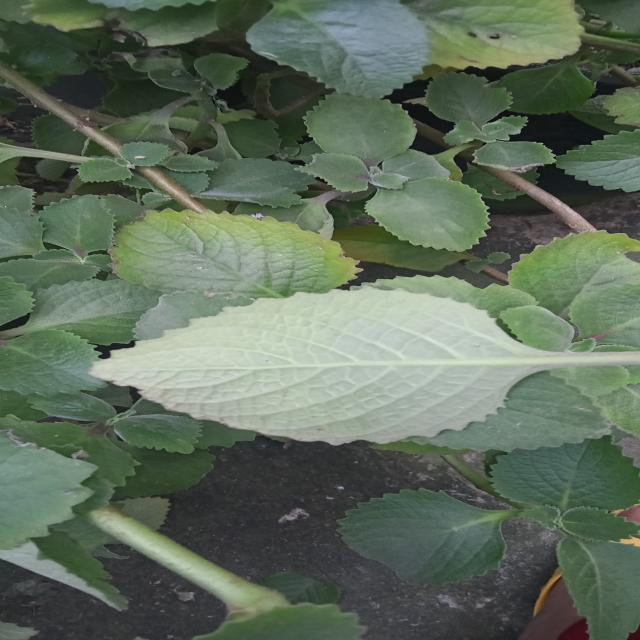Oregano: (59, 274, 640, 461)
